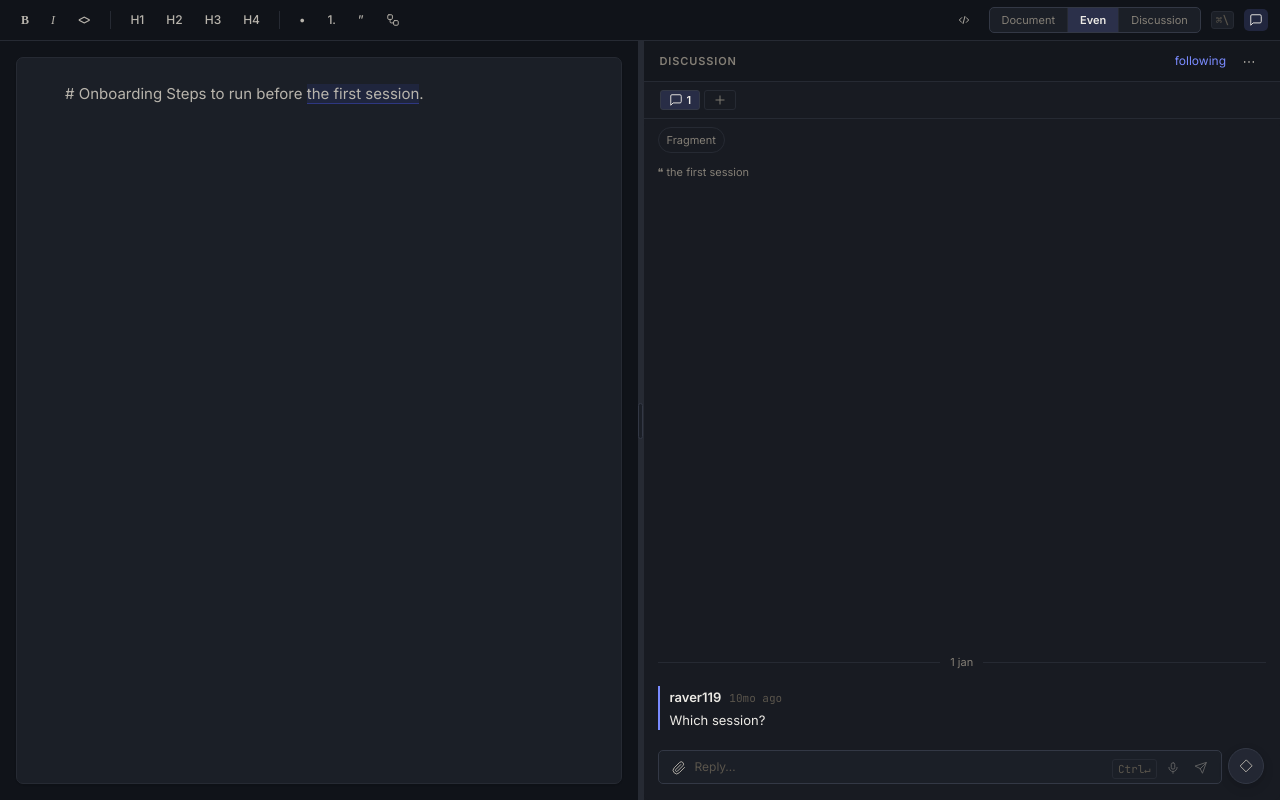
Test: CTA-FR-VQFJ: the composer offers the project's agents › names an agent's title where a model used to stand, and nothing when it has none
The width and height of the screenshot is (1280, 800).
Expected: the element named "artifact body" is shown, [65,84,424,104]
Type "@" into the text box named "Reply to thread t1" at (901, 767), box [694,755,1108,779]
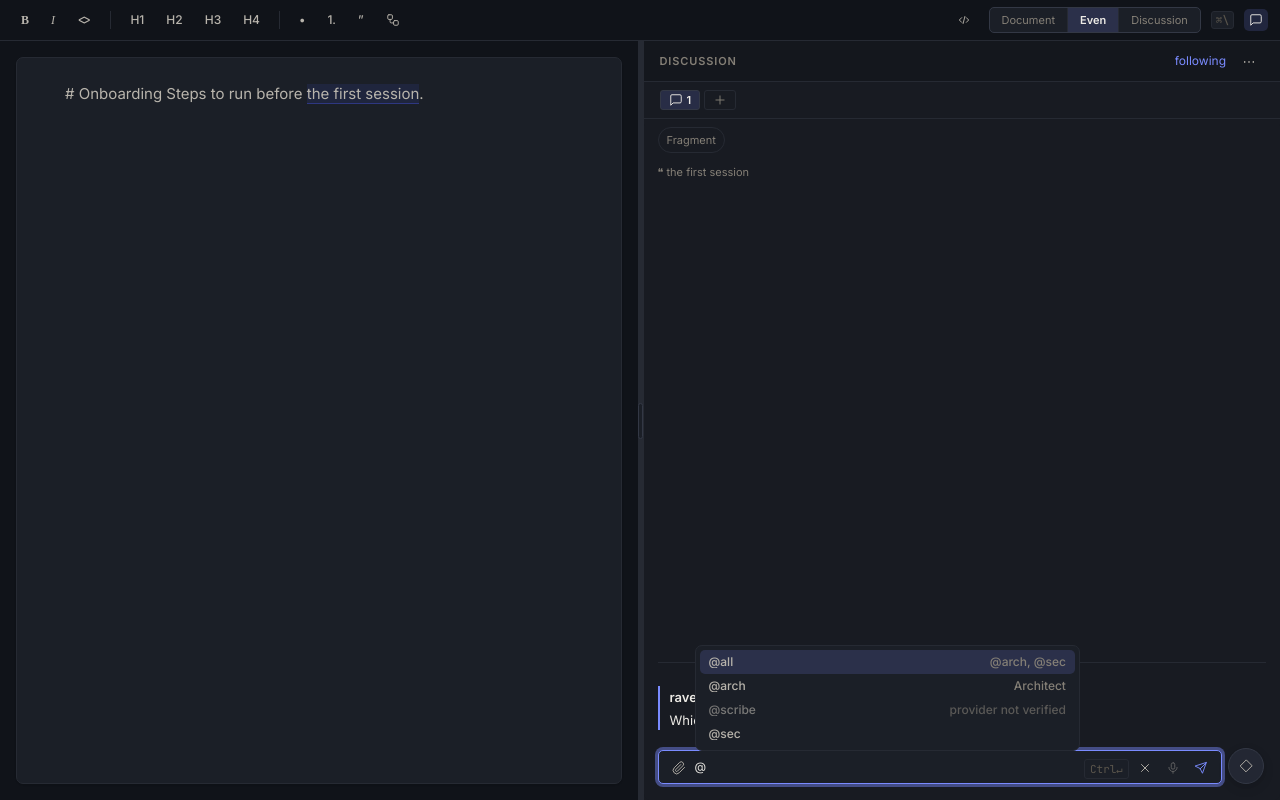
Now the option with test id "mention-picker-option" shows "Architect", box [700,674,1075,698]
Now the text "@sec" is shown, box [708,728,741,740]
Now the option with test id "mention-picker-option" reads "@scribe provider not verified", box [700,698,1075,722]
